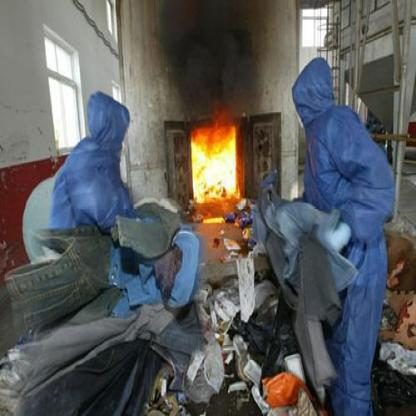fire: (190, 118, 238, 208)
other: (260, 360, 304, 405)
smoke: (162, 5, 260, 102)
